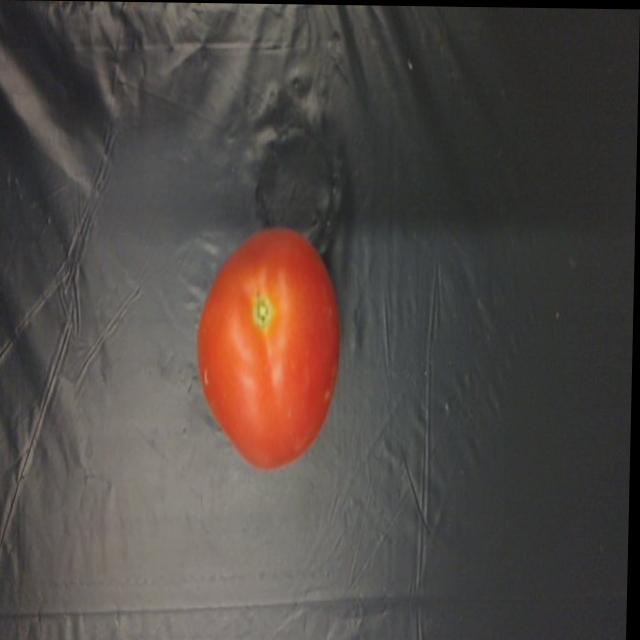sari: (185, 189, 357, 482)
